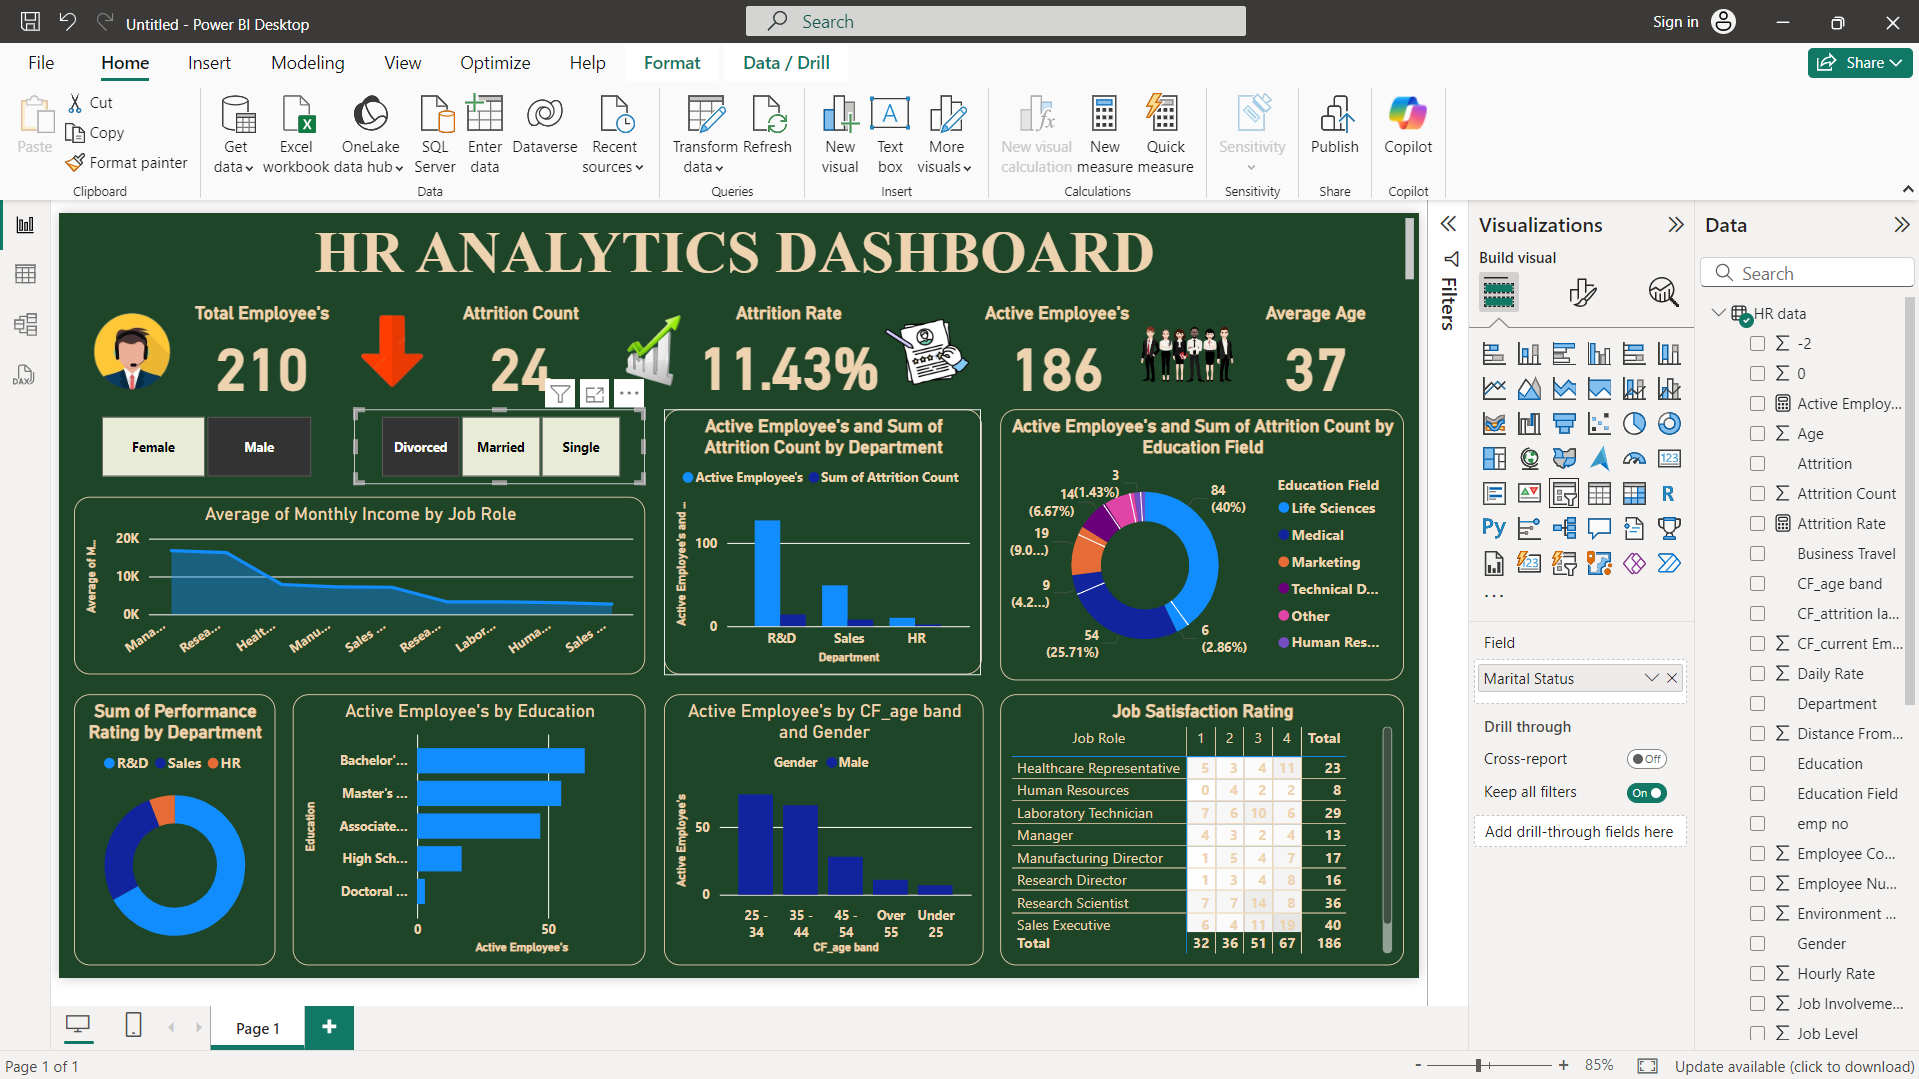

What the dashboard file says about the page in this screenshot:
{"tool":"powerbi","page":{"name":"Page 1","canvas":[1280,720],"ordinal":0},"visuals":[{"type":"card","title":"Total Employee''s","fields":{"Values":["Sum(HR data.Employee Count)"]},"box":[108.2,83.1,166,94.7],"z":0},{"type":"clusteredColumnChart","fields":{"Category":["HR data.Department"],"Y":["HR data.Active Employee's","Sum(HR data.Attrition Count)"]},"box":[569.5,185.2,299.1,249.7],"z":0},{"type":"card","title":"Average Age","fields":{"Values":["Avg(HR data.Age)"]},"box":[1100.5,83.1,166,94.7],"z":1000},{"type":"donutChart","fields":{"Y":["HR data.Active Employee's","Sum(HR data.Attrition Count)"],"Category":["HR data.Education Field"]},"box":[886.5,185.2,380.1,255.2],"z":1000},{"type":"card","title":"Active Employee''s","fields":{"Values":["HR data.Active Employee's"]},"box":[856.8,83.1,166,94.7],"z":2000},{"type":"columnChart","fields":{"Y":["HR data.Active Employee's"],"Category":["HR data.CF_age band"],"Series":["HR data.Gender"]},"box":[569.5,452.8,300.5,255.2],"z":2000},{"type":"card","title":"Attrition Rate","fields":{"Values":["HR data.Attrition Rate"]},"box":[595.7,83.4,183.5,94.1],"z":3000},{"type":"pivotTable","title":"Job Satisfaction Rating","fields":{"Rows":["HR data.Job Role"],"Columns":["HR data.Job Satisfaction"],"Values":["HR data.Active Employee's"]},"box":[886.5,452.8,380.1,255.2],"z":3000},{"type":"card","title":"Attrition Count","fields":{"Values":["Sum(HR data.Attrition Count)"]},"box":[351.9,83.1,166,94.7],"z":4000},{"type":"donutChart","fields":{"Y":["Sum(HR data.Performance Rating)"],"Category":["HR data.Department"]},"box":[13.7,452.8,189.4,255.2],"z":4000},{"type":"clusteredBarChart","fields":{"Category":["HR data.Education"],"Y":["HR data.Active Employee's"]},"box":[219.6,452.8,332.1,255.2],"z":5000},{"type":"areaChart","fields":{"Category":["HR data.Job Role"],"Y":["Avg(HR data.Monthly Income)"]},"box":[13.7,267.6,537.9,167.4],"z":6000},{"type":"slicer","fields":{"Values":["HR data.Gender"]},"box":[13.7,185.2,247,70],"z":7000},{"type":"slicer","fields":{"Values":["HR data.Marital Status"]},"box":[277.2,185.2,274.4,70],"z":8000},{"type":"image","box":[768,79.9,100,101.2],"z":10000},{"type":"image","box":[263,80.4,100.2,100.2],"z":11000},{"type":"image","box":[1011.6,80.4,100.2,100.2],"z":12000},{"type":"image","box":[506.7,80.4,100.2,100.2],"z":13000},{"type":"image","box":[19.2,80.4,100.2,100.2],"z":14000},{"type":"textbox","box":[0,0,1280.3,78.2],"z":15000}]}

Visuals, with their boxes on the page's 1280x720 design canvas (x1, y1, x2, y2). These are canvas units, not pixel positions in the 1919x1079 screenshot, which may show the page scaled, cropped or inside an application window:
"Total Employee''s" card: {"x1": 108, "y1": 83, "x2": 274, "y2": 178}
clusteredColumnChart - HR data.Department x HR data.Active Employee's: {"x1": 570, "y1": 185, "x2": 869, "y2": 435}
"Average Age" card: {"x1": 1100, "y1": 83, "x2": 1266, "y2": 178}
donutChart - HR data.Active Employee's x Sum(HR data.Attrition Count): {"x1": 886, "y1": 185, "x2": 1267, "y2": 440}
"Active Employee''s" card: {"x1": 857, "y1": 83, "x2": 1023, "y2": 178}
columnChart - HR data.Active Employee's x HR data.CF_age band: {"x1": 570, "y1": 453, "x2": 870, "y2": 708}
"Attrition Rate" card: {"x1": 596, "y1": 83, "x2": 779, "y2": 178}
"Job Satisfaction Rating" pivotTable: {"x1": 886, "y1": 453, "x2": 1267, "y2": 708}
"Attrition Count" card: {"x1": 352, "y1": 83, "x2": 518, "y2": 178}
donutChart - Sum(HR data.Performance Rating) x HR data.Department: {"x1": 14, "y1": 453, "x2": 203, "y2": 708}
clusteredBarChart - HR data.Education x HR data.Active Employee's: {"x1": 220, "y1": 453, "x2": 552, "y2": 708}
areaChart - HR data.Job Role x Avg(HR data.Monthly Income): {"x1": 14, "y1": 268, "x2": 552, "y2": 435}
slicer - HR data.Gender: {"x1": 14, "y1": 185, "x2": 261, "y2": 255}
slicer - HR data.Marital Status: {"x1": 277, "y1": 185, "x2": 552, "y2": 255}
image: {"x1": 768, "y1": 80, "x2": 868, "y2": 181}
image: {"x1": 263, "y1": 80, "x2": 363, "y2": 181}
image: {"x1": 1012, "y1": 80, "x2": 1112, "y2": 181}
image: {"x1": 507, "y1": 80, "x2": 607, "y2": 181}
image: {"x1": 19, "y1": 80, "x2": 119, "y2": 181}
textbox: {"x1": 0, "y1": 0, "x2": 1280, "y2": 78}
